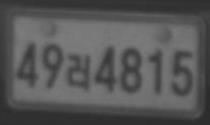1: (146, 51, 167, 94)
4: (16, 42, 39, 88), (94, 47, 118, 91)
5: (171, 51, 194, 96)
8: (120, 47, 143, 92)
9: (42, 44, 63, 87)
러: (67, 54, 90, 89)
